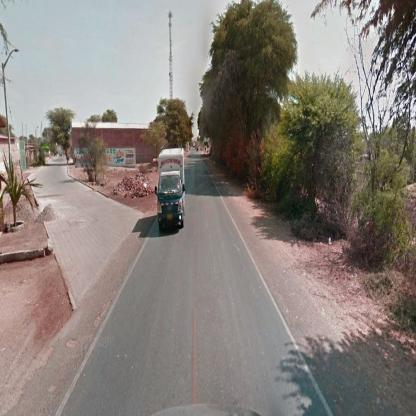Obstaculo: (36, 204, 66, 225)
Pista: (66, 148, 320, 402), (28, 155, 143, 306)
Vehiculo: (156, 147, 186, 232)
